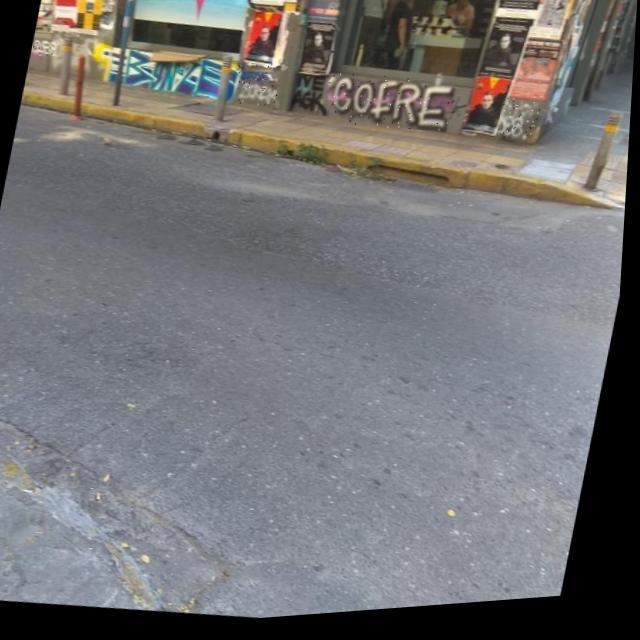-: (326, 70, 458, 146), (498, 104, 544, 152), (238, 84, 284, 114), (236, 64, 274, 91), (31, 34, 64, 60)
